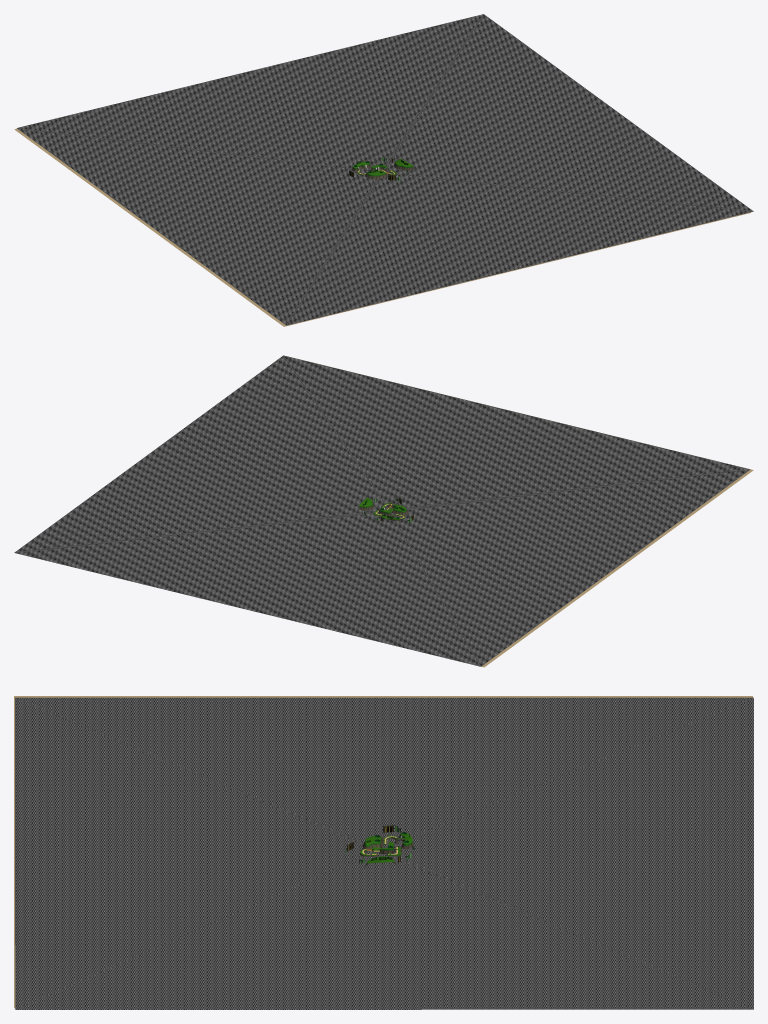
The picture shows the model from 3 angles, top to bottom: view 1: azimuth 30°, elevation 25°; view 2: azimuth 150°, elevation 25°; view 3: azimuth 270°, elevation 25°; orthographic projection. The views are drawn at different scales.
Visible parts, largest first — view 1: POCHA, Sand.002; view 2: POCHA, Sand.002; view 3: POCHA, Sand.002.
Part boxes in pixels (x1=…): POCHA: x1=17, y1=14, x2=753, y2=325; Sand.002: x1=14, y1=128, x2=750, y2=326; POCHA: x1=14, y1=355, x2=750, y2=666; Sand.002: x1=289, y1=356, x2=753, y2=667; POCHA: x1=15, y1=697, x2=753, y2=1009; Sand.002: x1=14, y1=696, x2=752, y2=1008.
Bounding box in the file's own units: 1319549 × 17369 × 1313014.
Materials: 23 (23 with a texture image).
